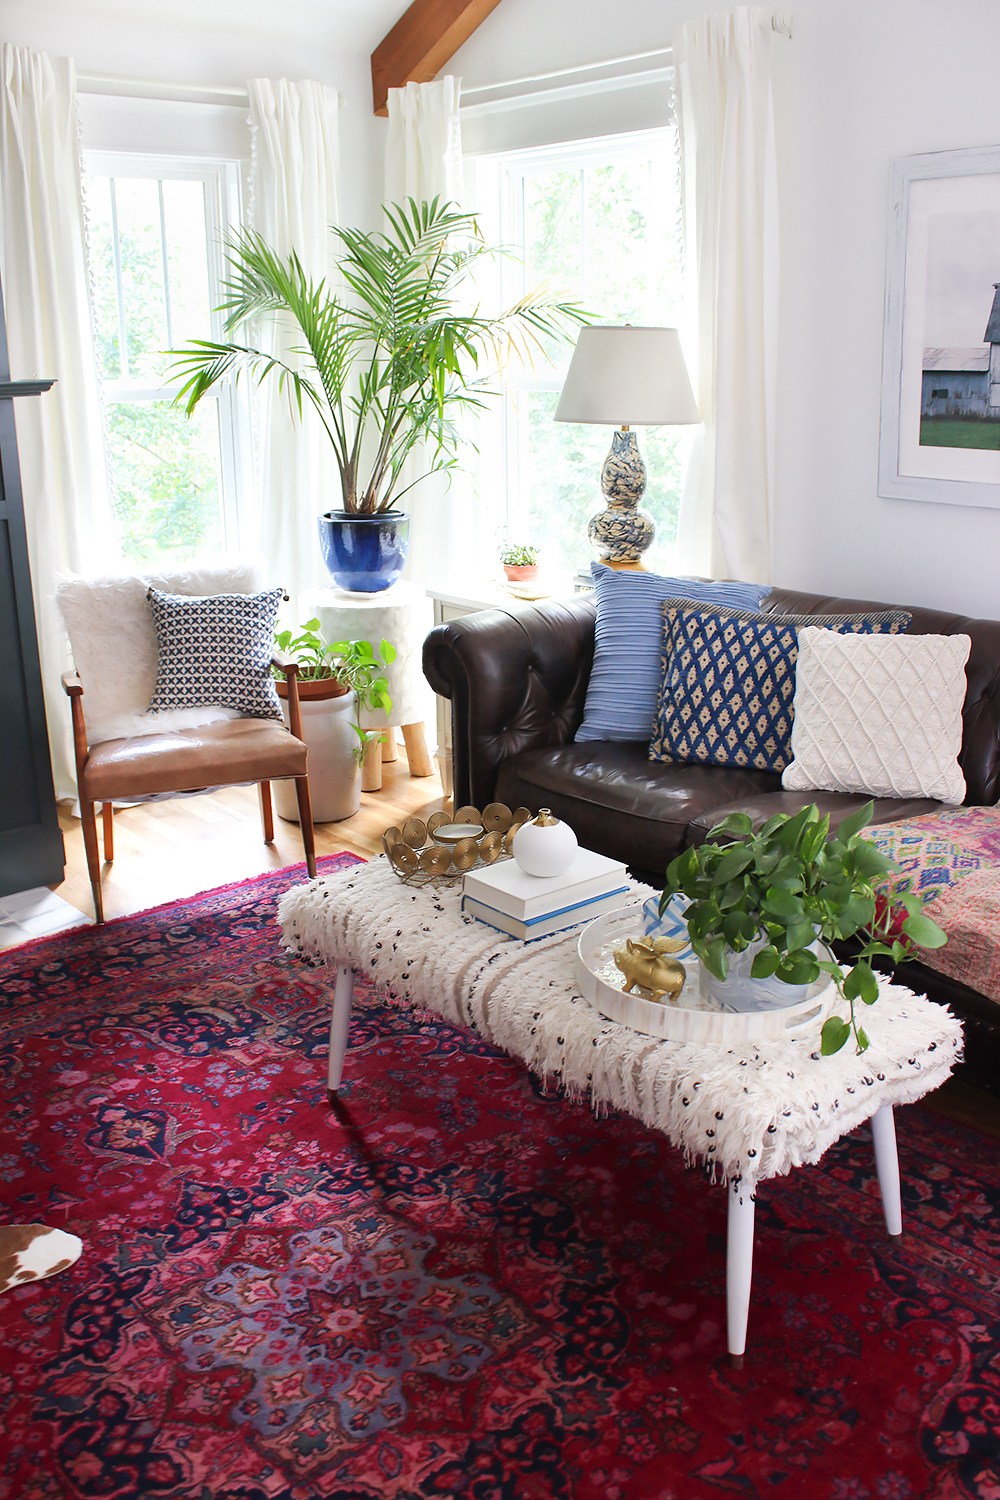biru: (314, 517, 411, 589)
putih: (795, 631, 968, 799), (569, 323, 700, 427), (513, 820, 579, 875)
